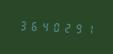four: (39, 19, 49, 33)
nine: (72, 20, 82, 35)
one: (83, 21, 93, 35)
six: (28, 18, 38, 33)
three: (17, 17, 27, 32)
two: (61, 20, 71, 34)
zero: (50, 19, 60, 34)
